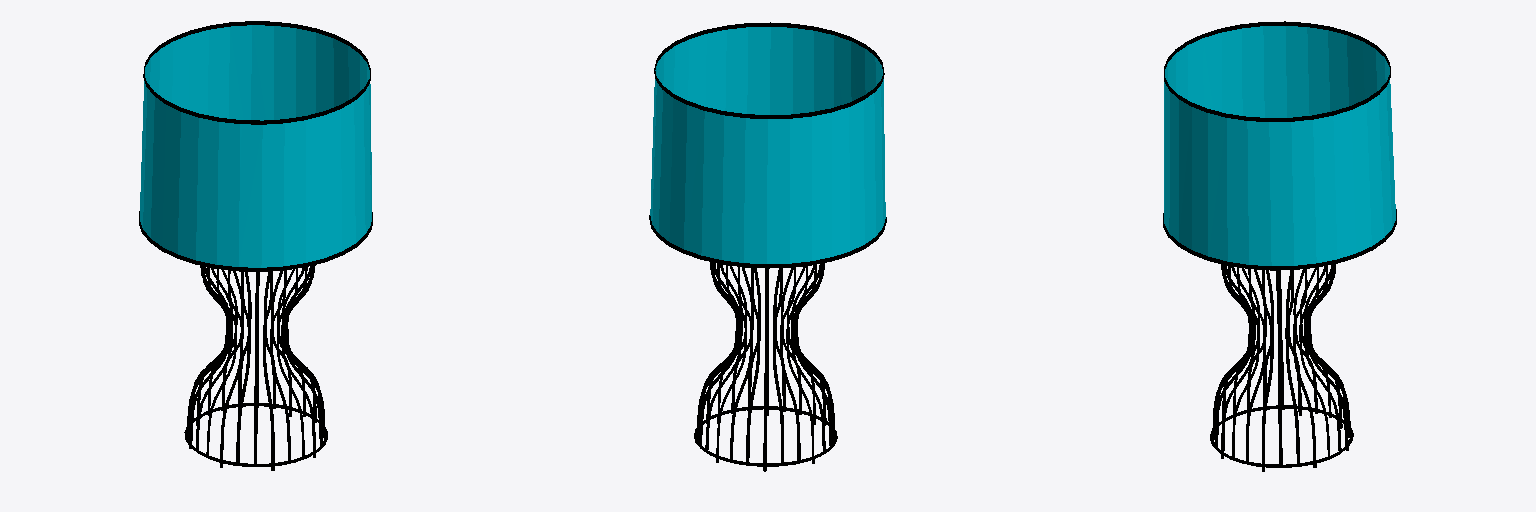
Rendered from light07.obj.
3 views of the same model, side by side, from view 1: azimuth 30°, elevation 25°; view 2: azimuth 150°, elevation 25°; view 3: azimuth 270°, elevation 25° (orthographic).
Visible parts, largest first — view 1: Object.1; view 2: Object.1; view 3: Object.1.
Boxes of the visible parts, box(x1,y1,x2,y2) form: Object.1: box(139, 21, 372, 470); Object.1: box(649, 22, 886, 471); Object.1: box(1163, 21, 1396, 471).
Size of the model in its own units: 7.45 by 13.1 by 7.41.